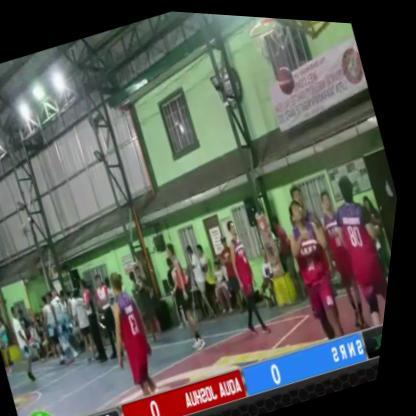basketball: (267, 51, 308, 95)
rim: (236, 13, 305, 70)
